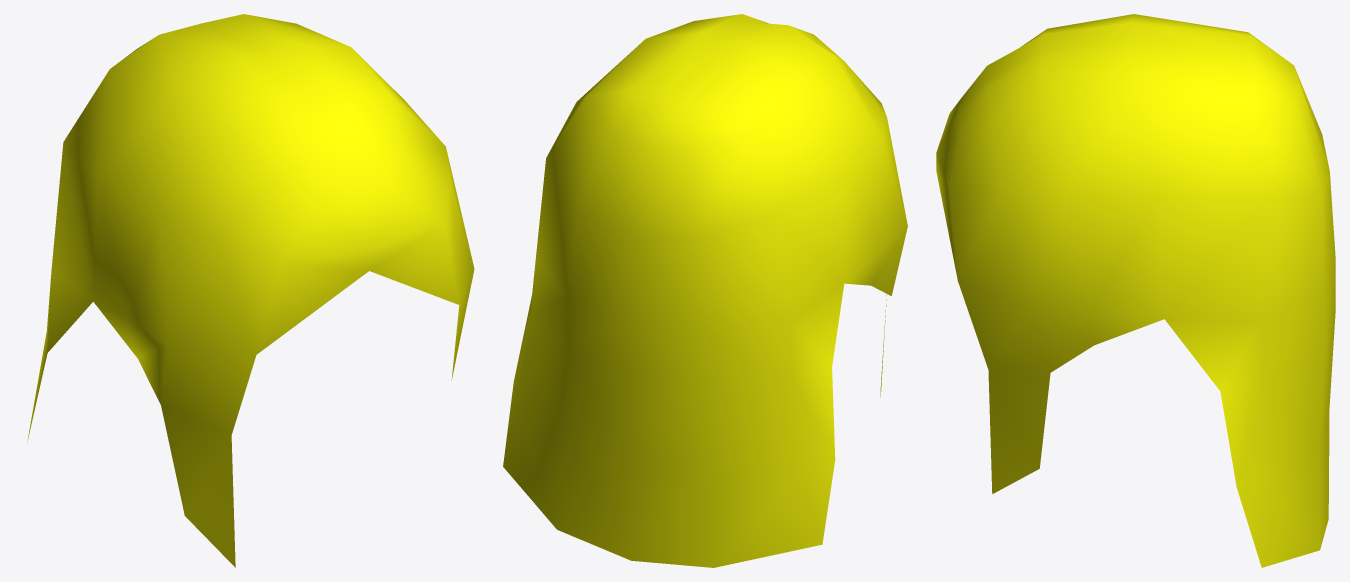
File: hair_lacylong.glb
3 renders of one model, left to right at view 1: azimuth 30°, elevation 25°; view 2: azimuth 150°, elevation 25°; view 3: azimuth 270°, elevation 25°, orthographic. The views are drawn at different scales.
Visible parts, largest first — view 1: LongHairLacy; view 2: LongHairLacy; view 3: LongHairLacy.
Part boxes in pixels (box(x1,y1,x2,y2)): LongHairLacy: box(27, 14, 474, 567); LongHairLacy: box(503, 14, 907, 567); LongHairLacy: box(936, 14, 1335, 567).
Size of the model in its own units: 0.6112 by 0.8247 by 0.6164.
1 material, 1 textured.
